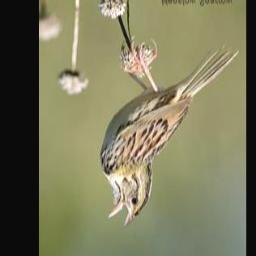Sparrow: (98, 32, 243, 232)
